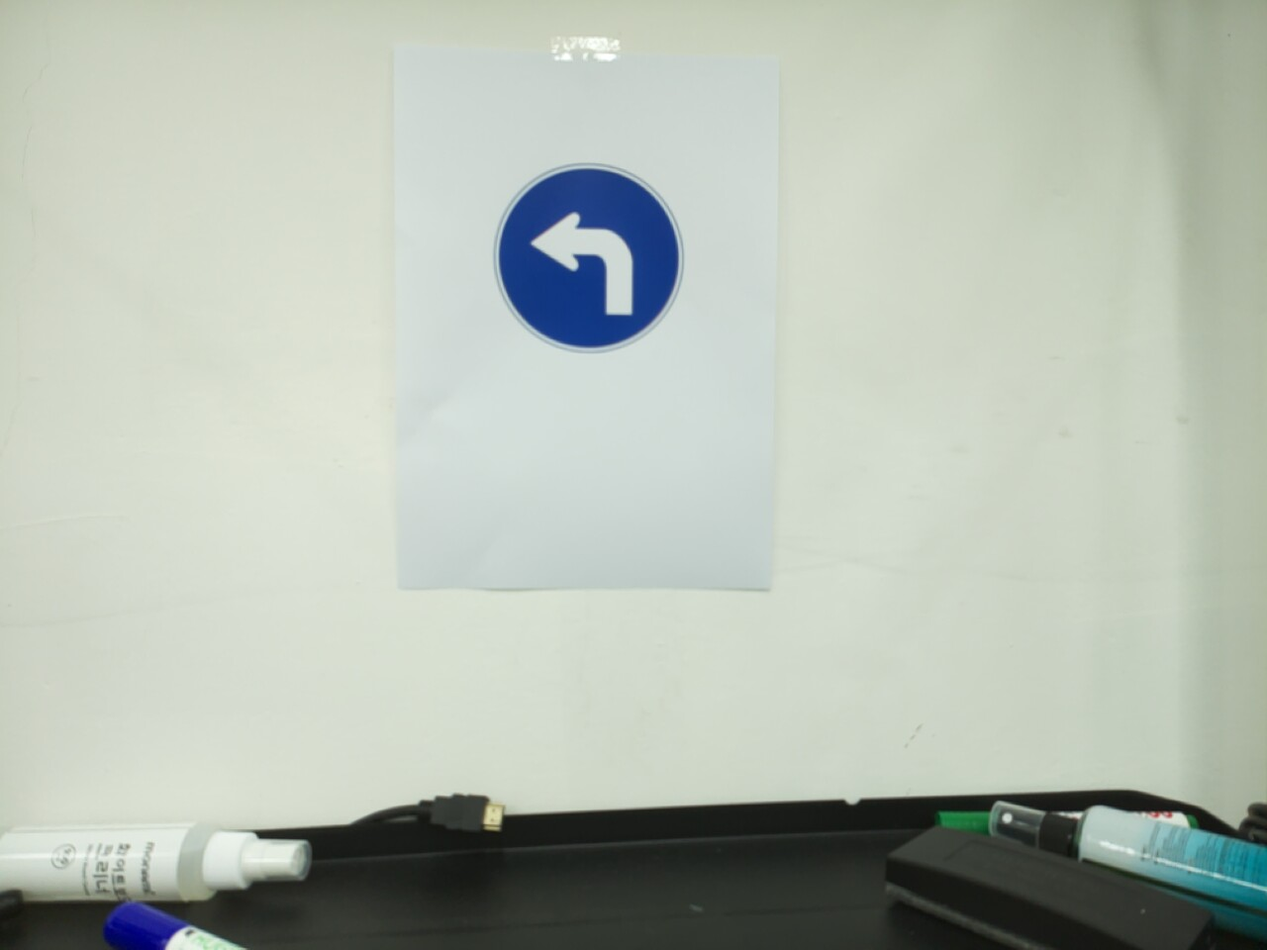left_turn: (492, 161, 686, 355)
